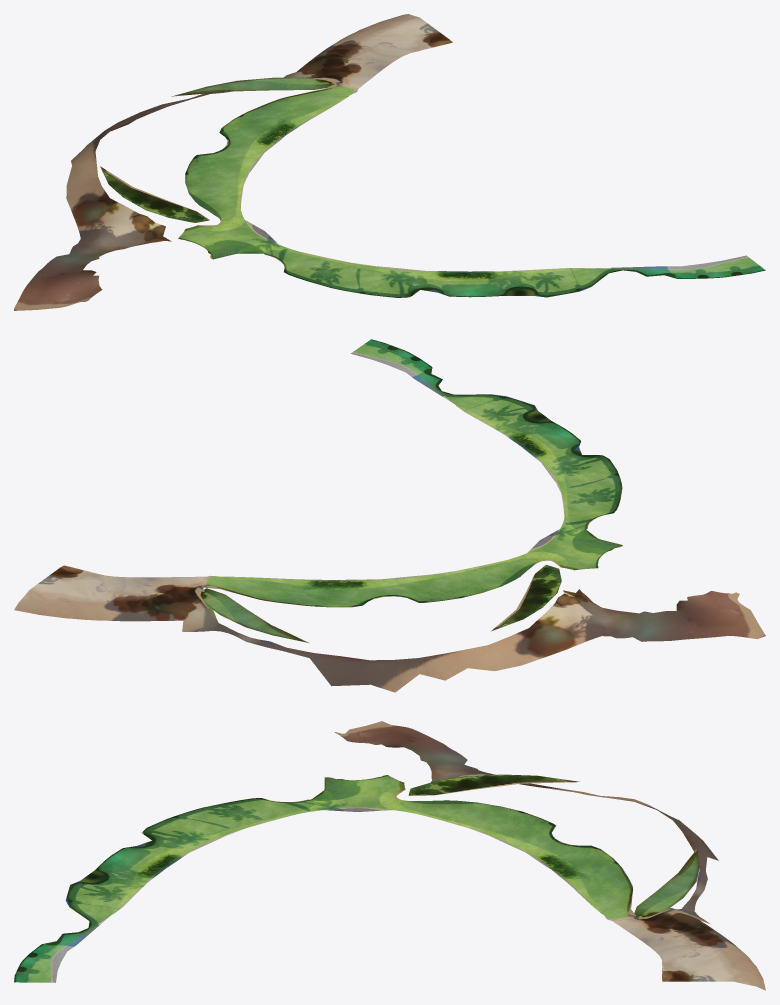
The model's file is pref_sm_beach_techsmall_001_bk_outer_R_lv1.fbx.
3 views of the same model, one above another, from view 1: azimuth 30°, elevation 25°; view 2: azimuth 150°, elevation 25°; view 3: azimuth 270°, elevation 25° (orthographic). The views are drawn at different scales.
Parts seen in each view (by area): view 1: pref_sm_beach_techsmall_001_bk_outer_R_lv1; view 2: pref_sm_beach_techsmall_001_bk_outer_R_lv1; view 3: pref_sm_beach_techsmall_001_bk_outer_R_lv1.
Part boxes in pixels (box(x1,y1,x2,y2)): pref_sm_beach_techsmall_001_bk_outer_R_lv1: box(14, 14, 765, 310); pref_sm_beach_techsmall_001_bk_outer_R_lv1: box(14, 339, 765, 692); pref_sm_beach_techsmall_001_bk_outer_R_lv1: box(14, 721, 765, 990).
Bounding box in the file's own units: 79.44 × 4.16 × 86.31.
1 material, 1 textured.
